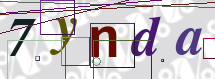7: (7, 16, 38, 58)
a: (171, 26, 206, 59)
d: (128, 13, 165, 59)
n: (84, 21, 124, 61)
y: (47, 15, 80, 58)
